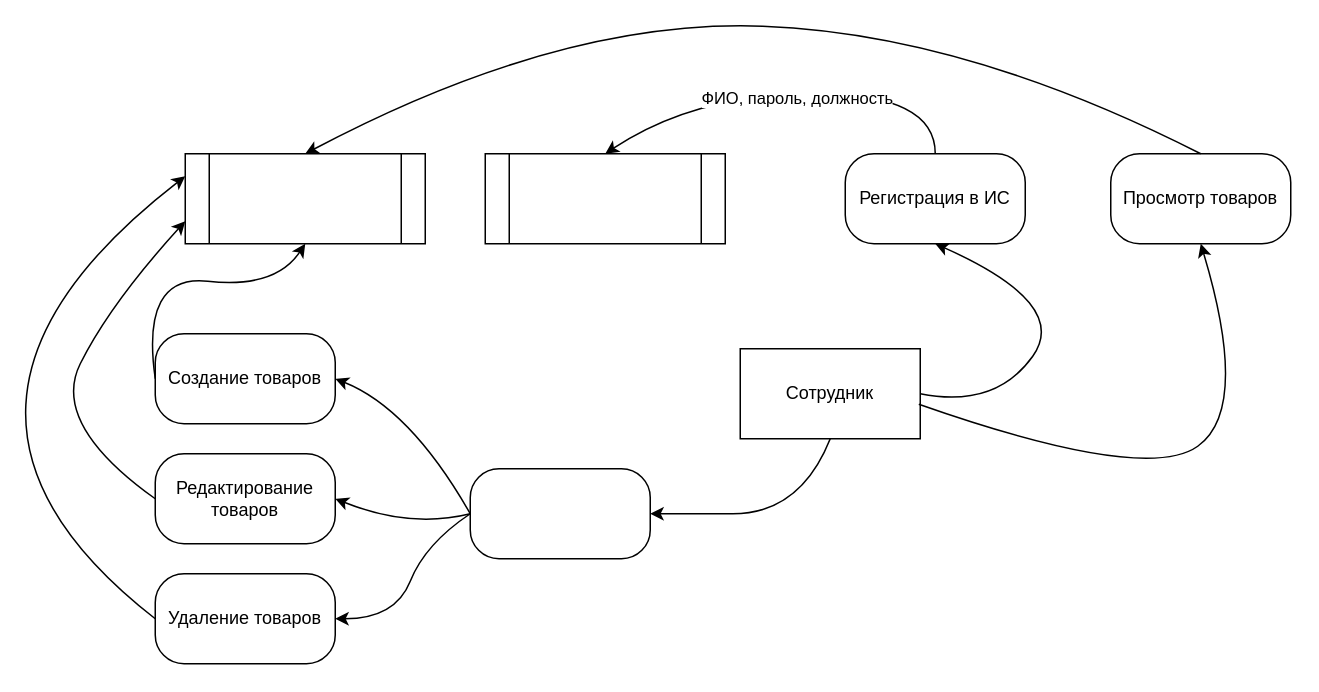
Some shapes in this 1319 by 692 pixel diagram are drawn without their labels. The shapes that lost their labels are listed below. From the top down, each one's centre as x and y in pixels, then its label:
At pixel 304 198: "Таблица товаров".
At pixel 604 198: "Таблица пользователей".
At pixel 559 513: "Управление товарами".
